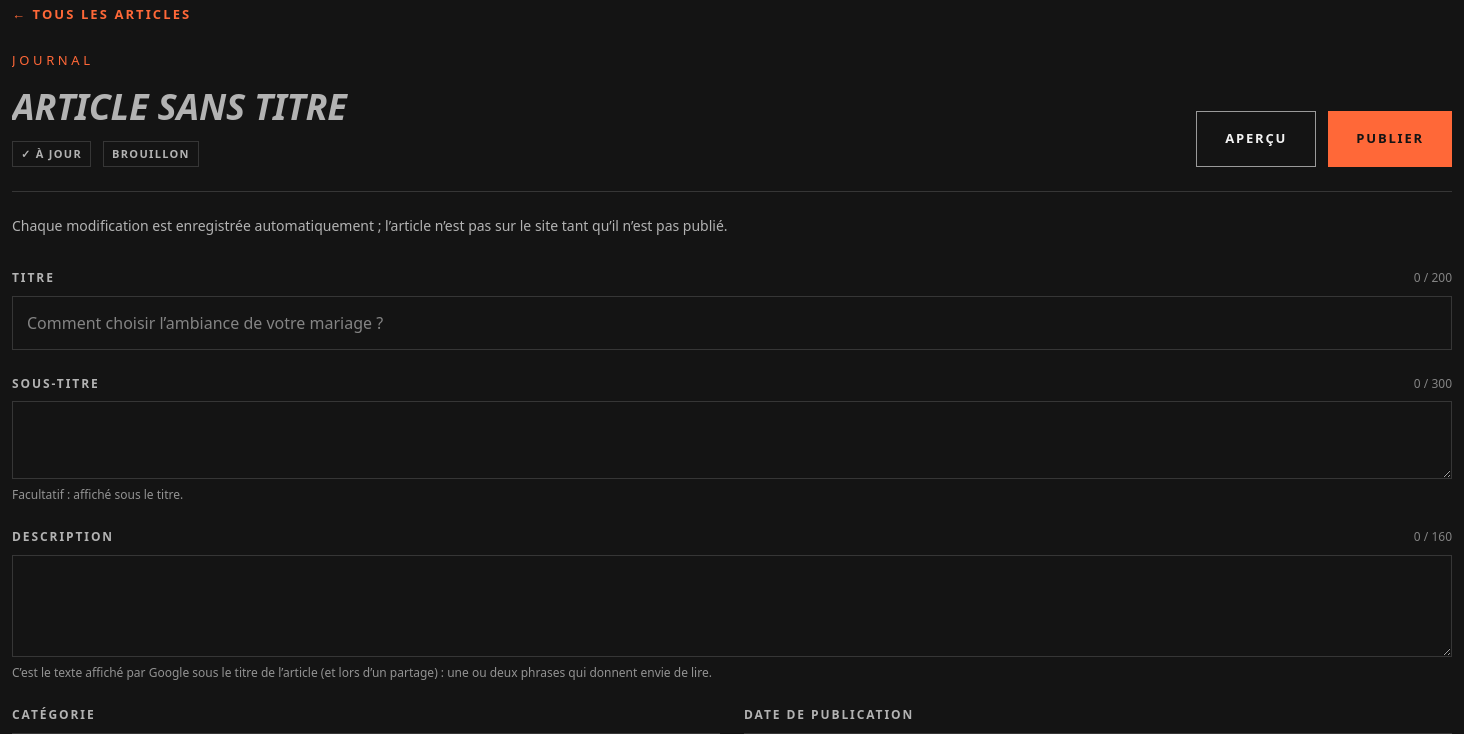
Test: EditeurArticle — enregistrement automatique › le titre propose l’adresse et tout part au serveur après la frappe, sans bouton « Enregistrer »
In the field labelled "Titre": (732, 323) [12,296,1452,350], type "Se marier en hiver !"
(page scrolled)
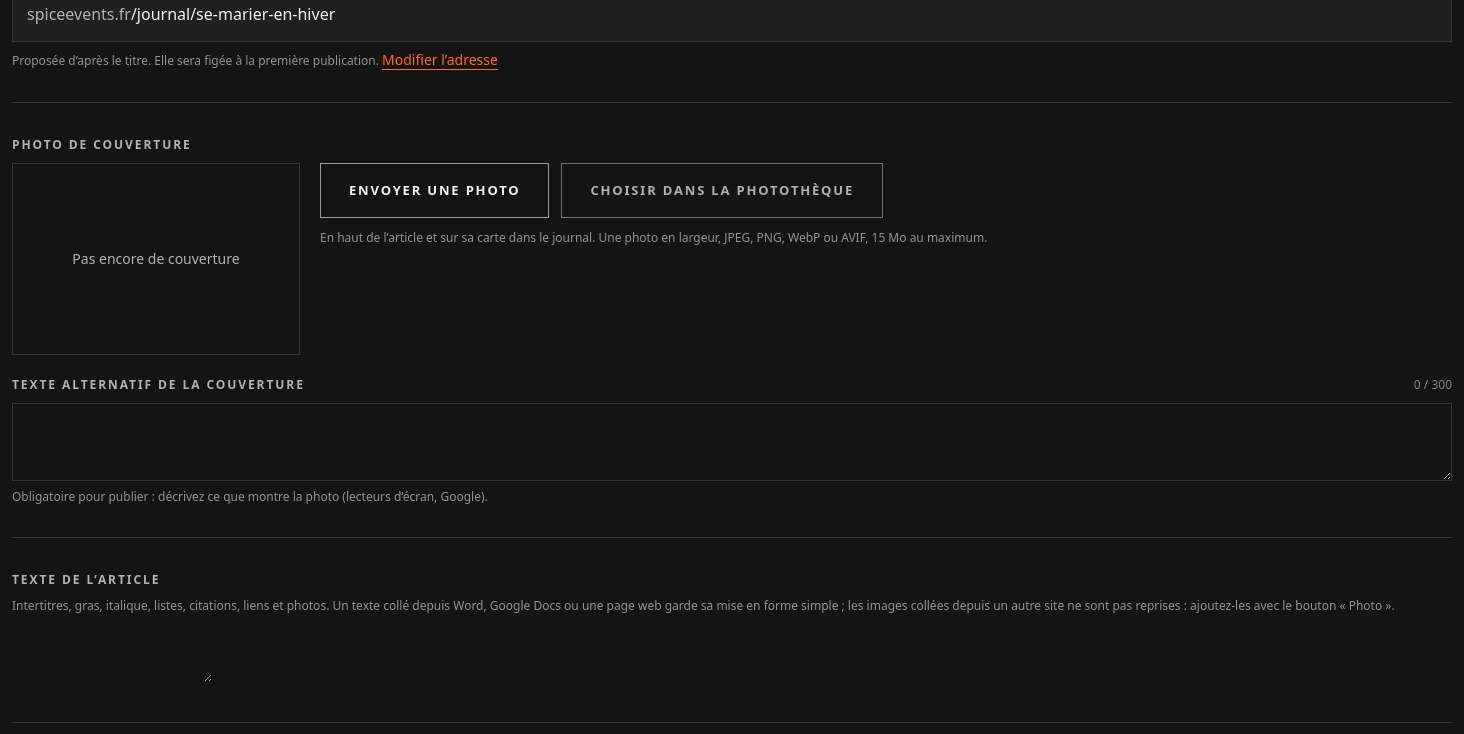
Now the text "/journal/se-marier-en-hiver" is shown, box [131,3,335,25]
In the text box named "Corps de l’article": (112, 656) [12,630,212,682], type "Bonjour"
Wait 900 ms
(page scrolled)
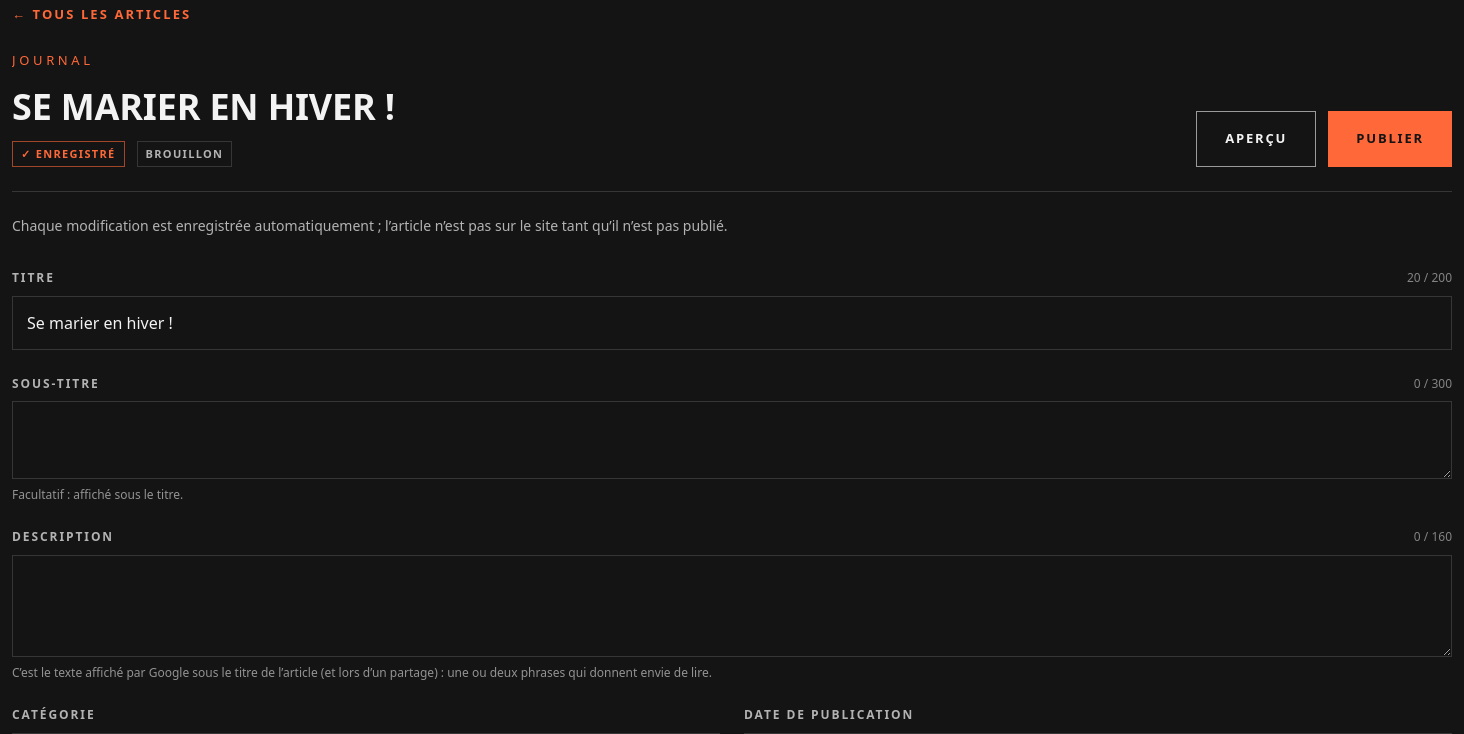
Now the text "✓ Enregistré" is shown, box [12,141,124,167]
